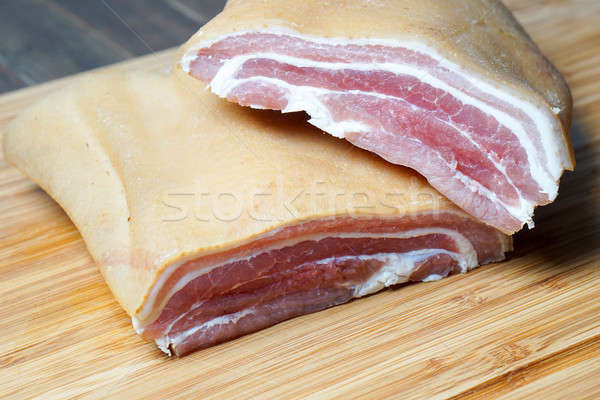bacon: (49, 79, 459, 331), (192, 11, 551, 201)
